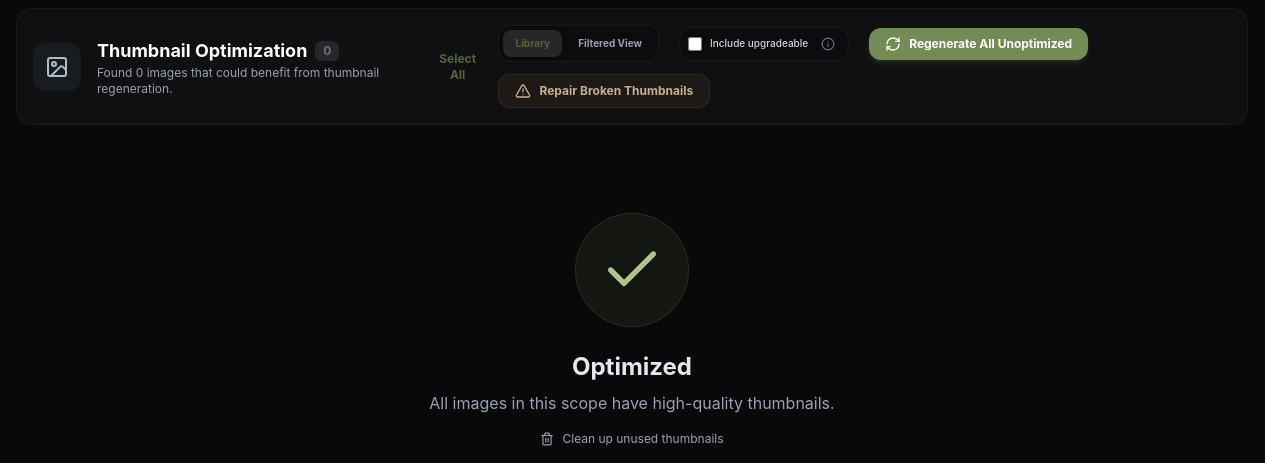
Scenario: ThumbnailsTab › explains which existing thumbnails are included as upgradeable
Focus the button named "About upgradeable thumbnails" at (828,44), box x1=816 y1=32 x2=840 y2=56
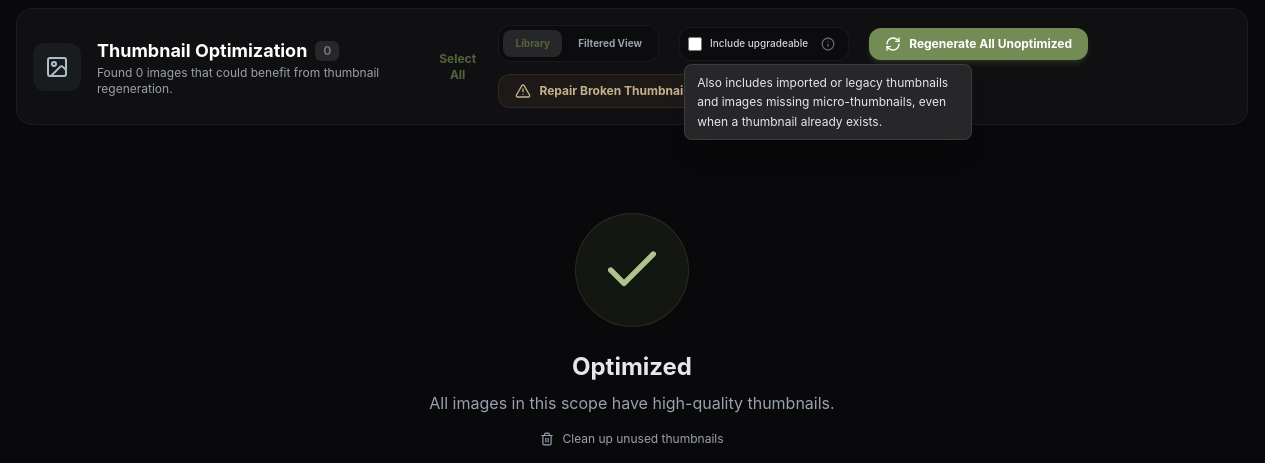
Expected: the tooltip shows "imported or legacy thumbnails", x1=697 y1=74 x2=948 y2=128
Expected: the tooltip shows "missing micro-thumbnails", x1=697 y1=74 x2=948 y2=128
